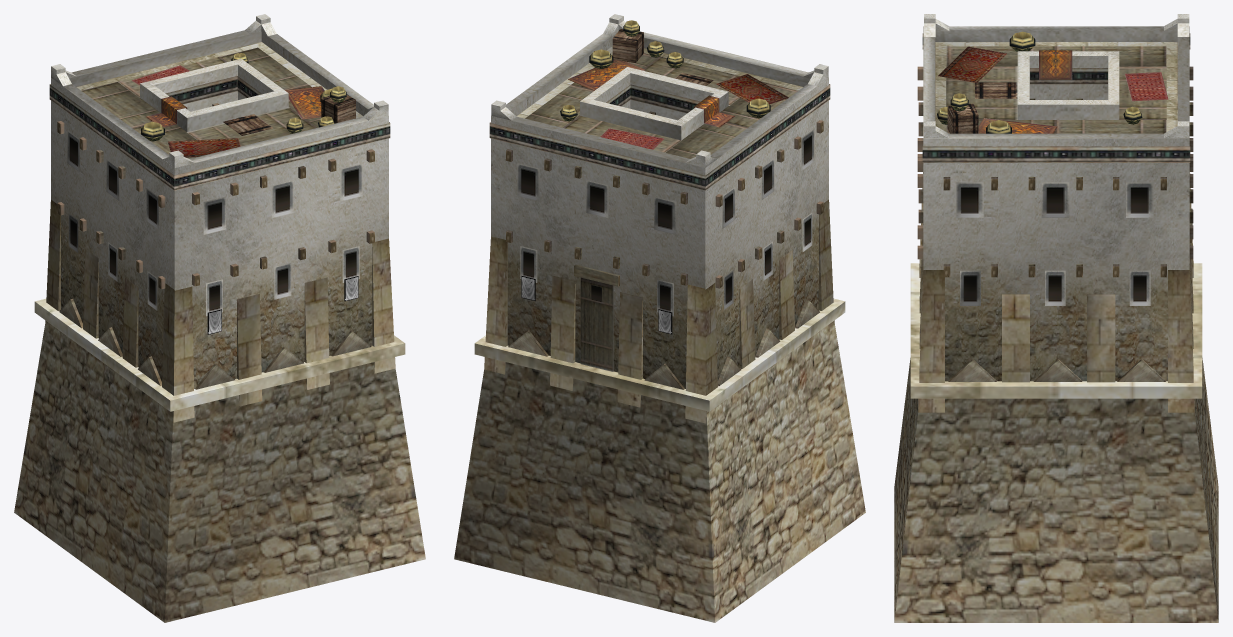
File: s_carthaginians_apartment.glb
3 renders of one model, left to right at view 1: azimuth 30°, elevation 25°; view 2: azimuth 150°, elevation 25°; view 3: azimuth 270°, elevation 25°, orthographic. The views are drawn at different scales.
Parts seen in each view (by area): view 1: s_carthaginians_apartment_part0; view 2: s_carthaginians_apartment_part0; view 3: s_carthaginians_apartment_part0.
Boxes of the visible parts, left/top/right/bottom form: s_carthaginians_apartment_part0: left=14, top=14, right=425, bottom=622; s_carthaginians_apartment_part0: left=454, top=14, right=865, bottom=622; s_carthaginians_apartment_part0: left=894, top=14, right=1218, bottom=622.
Bounding box in the file's own units: 2.7 × 4.57 × 2.7.
Materials: 1 (1 with a texture image).
